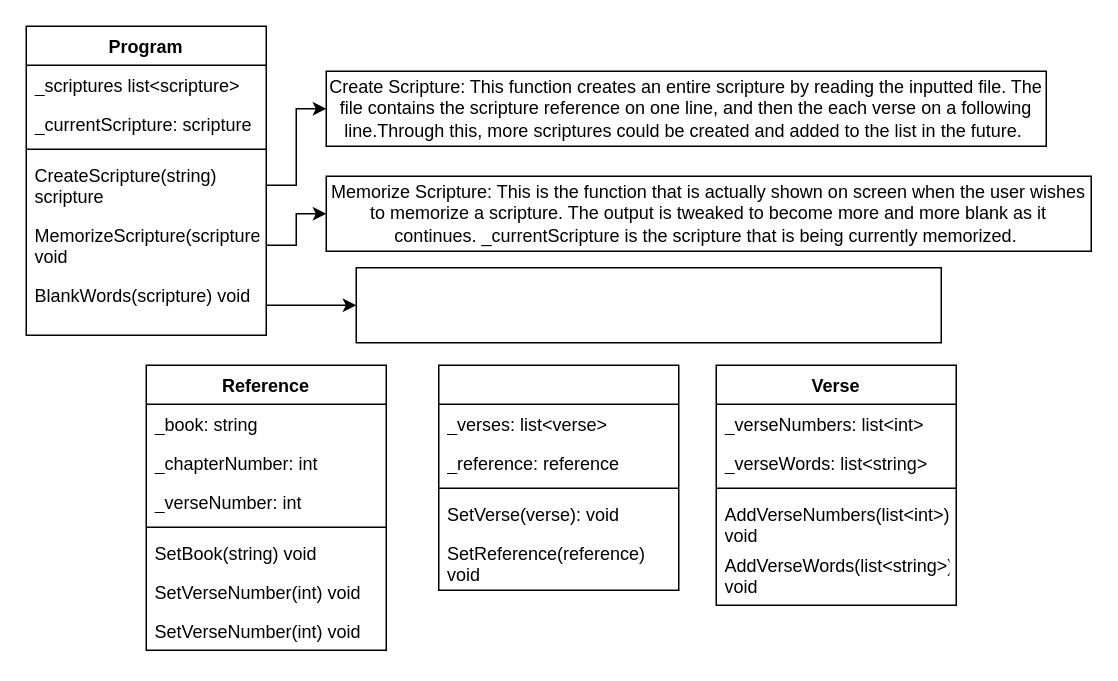
The diagram is 1118 pixels wide and 681 high, and some of its shapes have lost their labels. Each missing label, with the box of its shape:
Scripture: (437, 364, 679, 590)
This function will randomly choose words in the current scripture to blank.: (355, 266, 941, 343)
